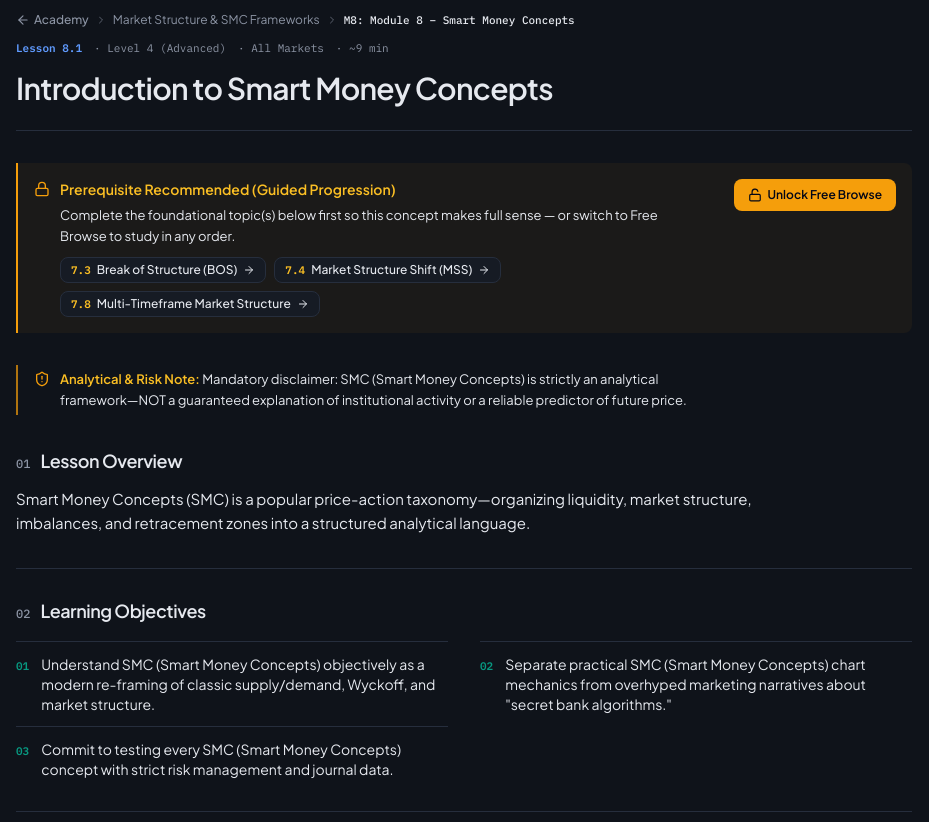
Scenario: Master Academy — UI Component Integration › AcademyTopicPage renders locked prerequisite banner on 8.1 with Unlock Free Browse, disclaimer, and all 6 sections
Check: the text "Prerequisite Recommended (Guided Progression)" is shown, box left=60, top=180, right=396, bottom=198
Check: the text "Analytical & Risk Note:" is shown, box left=60, top=371, right=202, bottom=387
Unlocking Free Browse removes prerequisite banner
Click the button "Unlock Free Browse".
click(815, 195)  # box left=734, top=179, right=896, bottom=211
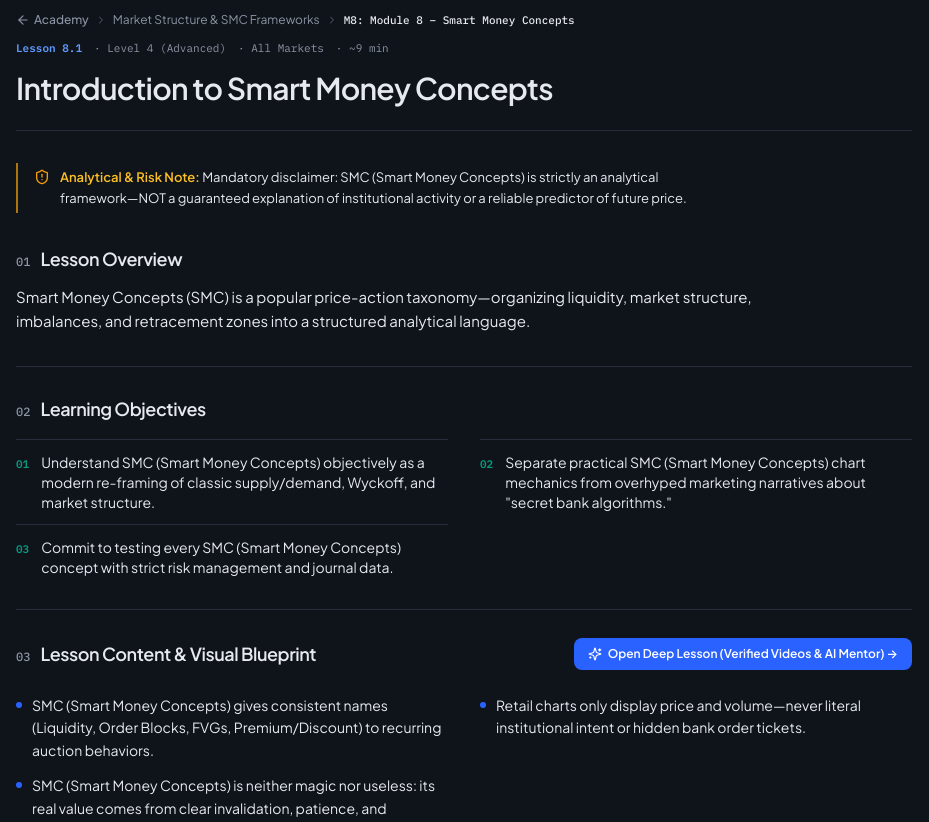
Check: the text "Prerequisite Recommended (Guided Progression)" is gone
